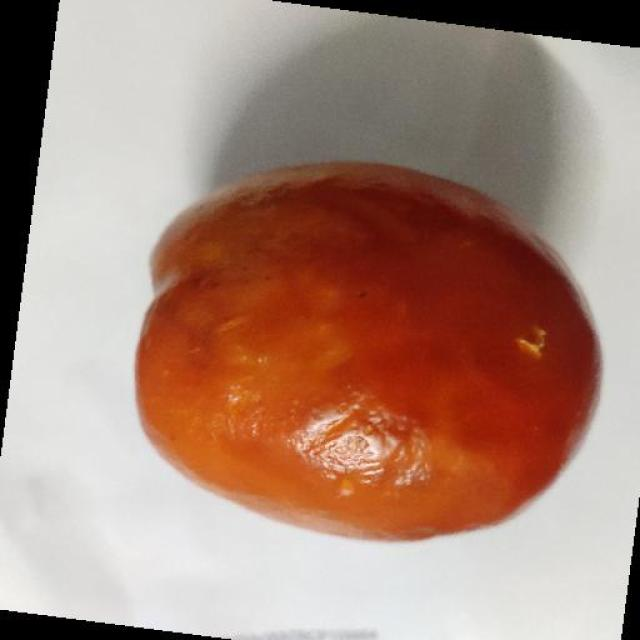Stale_tomato: (157, 152, 607, 560)
